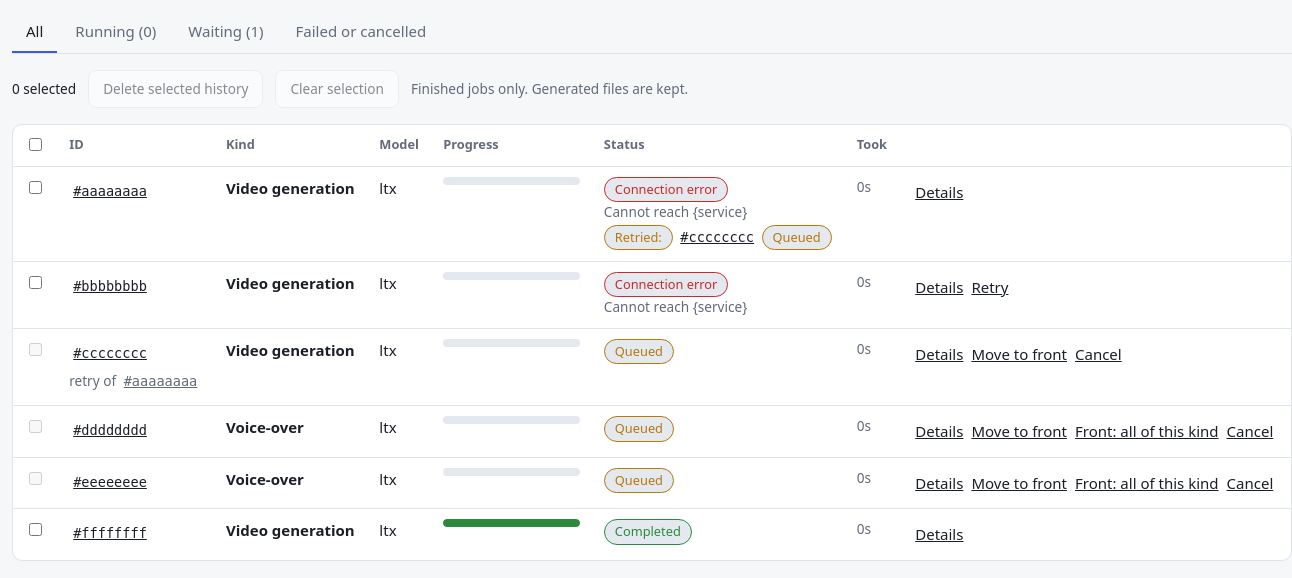
it: batch history removal › selects only finished jobs, confirms deletion and refreshes the list
Expected: the checkbox named "Select job #cccccccc" is disabled, [29,343,42,356]
Click the checkbox named "Select finished jobs on this page" at (36, 144), box [29,138,42,151]
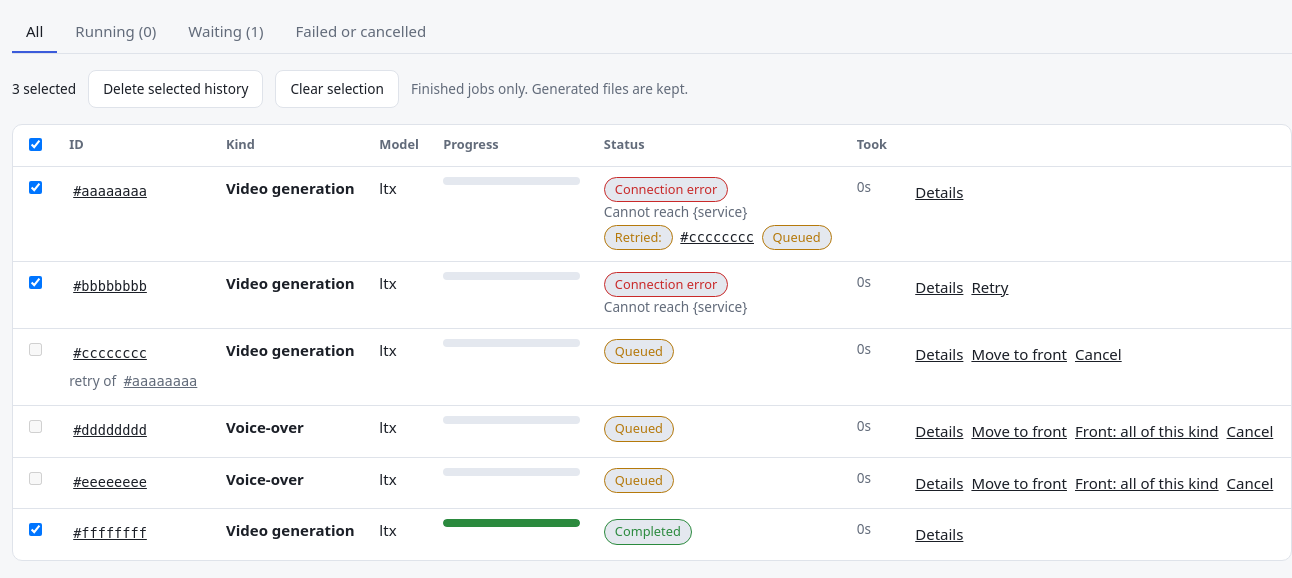
Now the text "3 selected" is shown, box [12,78,76,99]
Click the button "Delete selected history" at (176, 89), box [88,70,263,108]
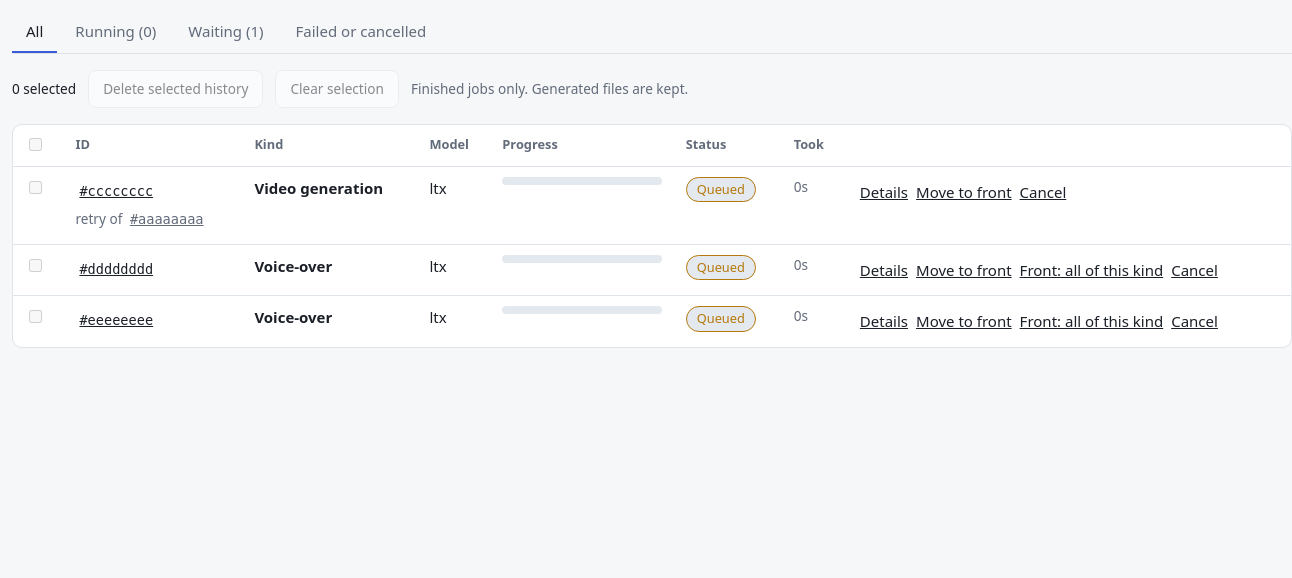
Expected: the button "#cccccccc" is shown, [75,177,157,206]
Now the button "#bbbbbbbb" is gone
Now the text "0 selected" is shown, box [12,78,76,99]
